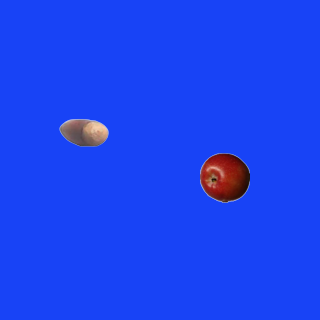Apple Braeburn: (199, 152, 249, 202)
Hazelnut: (58, 107, 108, 157)
